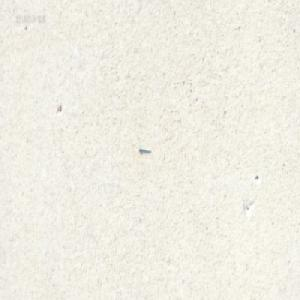Nail: (137, 144, 150, 152)
